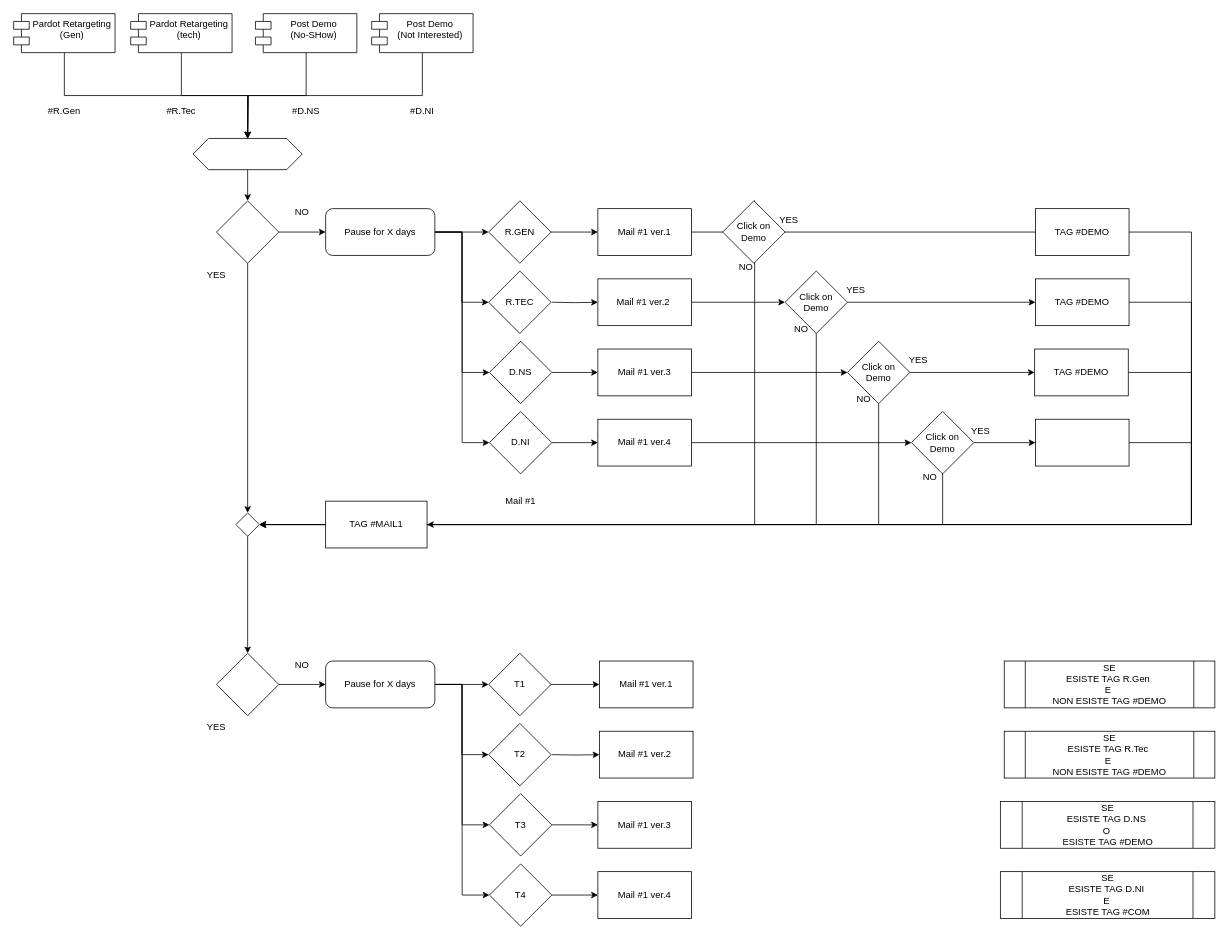
Some shapes in this 1229 by 940 pixel diagram are drawn without their labels. The shapes that lost their labels are listed below. From the top down, each one's box as (x1, y1, x2, y2) in pixels, then its label:
(192, 138, 302, 170): START
(216, 200, 279, 263): Mail = 1
(1035, 418, 1129, 466): TAG #COM
(216, 652, 279, 716): Mail = 2
